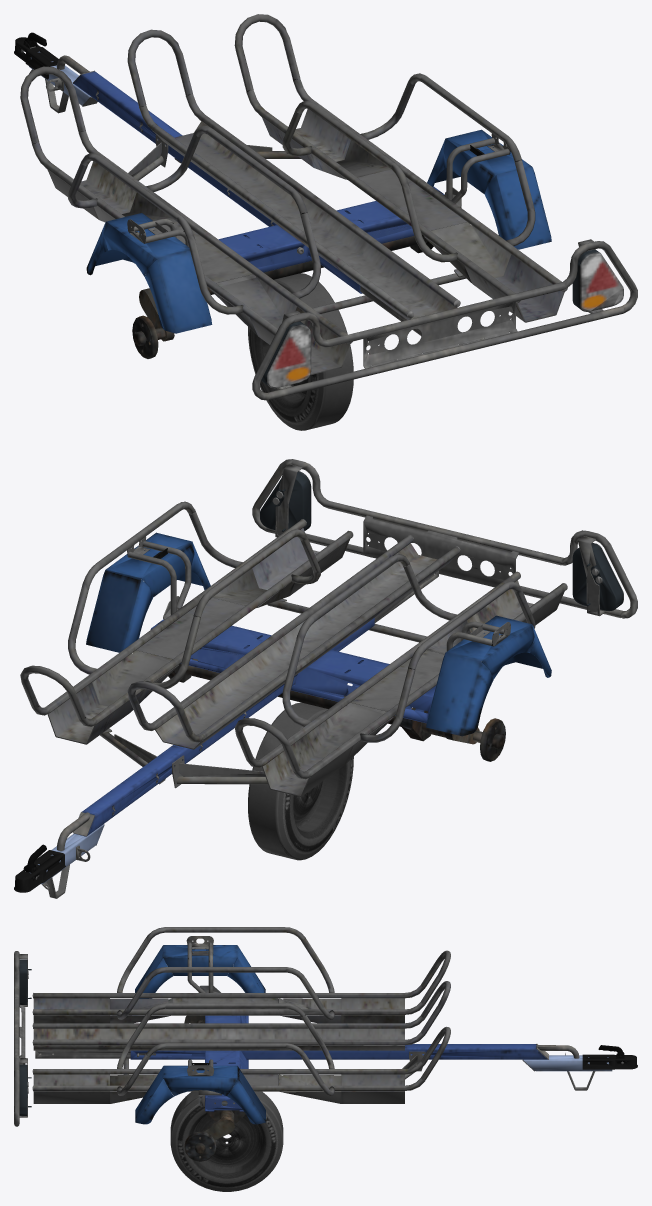
Rendered from MotoTrailer.fbx.
The picture shows the model from 3 angles, top to bottom: view 1: azimuth 30°, elevation 25°; view 2: azimuth 150°, elevation 25°; view 3: azimuth 270°, elevation 25°; orthographic projection. The views are drawn at different scales.
Parts seen in each view (by area): view 1: tr_Body, tr_WheelLeft, tr_WheelRight; view 2: tr_Body, tr_WheelLeft, tr_WheelRight; view 3: tr_Body, tr_WheelRight, tr_WheelLeft.
Part boxes in pixels (left/top/right/bottom): tr_Body: left=14, top=14, right=637, bottom=400; tr_WheelLeft: left=248, top=274, right=353, bottom=430; tr_WheelRight: left=249, top=273, right=353, bottom=429; tr_Body: left=14, top=459, right=637, bottom=898; tr_WheelLeft: left=248, top=702, right=353, bottom=860; tr_WheelRight: left=248, top=703, right=353, bottom=859; tr_Body: left=14, top=927, right=637, bottom=1161; tr_WheelRight: left=170, top=1091, right=283, bottom=1191; tr_WheelLeft: left=170, top=1091, right=281, bottom=1189.
Bounding box in the file's own units: 26.25 × 18.21 × 50.46.
